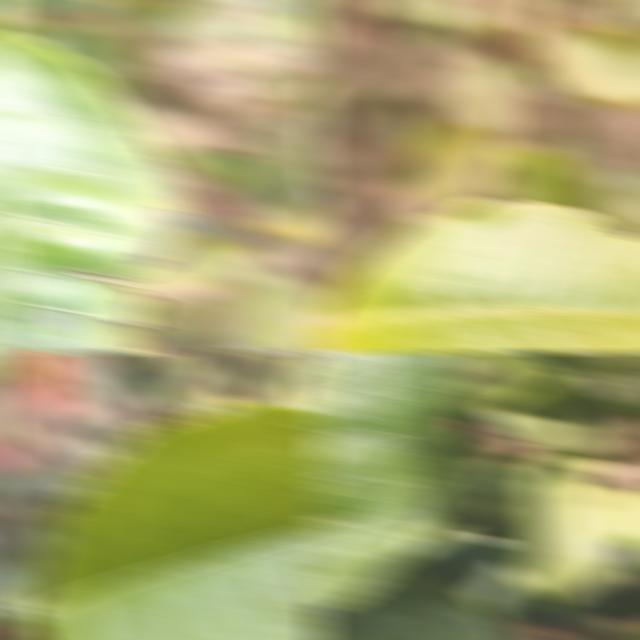Leaf: (27, 400, 328, 640), (0, 29, 189, 353), (312, 199, 640, 353), (312, 351, 463, 608), (491, 453, 630, 607), (312, 562, 517, 640), (483, 373, 638, 455), (396, 120, 509, 224), (534, 26, 640, 108), (493, 143, 602, 214), (221, 273, 315, 353), (441, 351, 558, 413), (446, 53, 520, 136), (251, 123, 319, 205), (573, 483, 640, 551), (283, 351, 328, 404), (0, 558, 28, 639), (507, 0, 555, 42)
